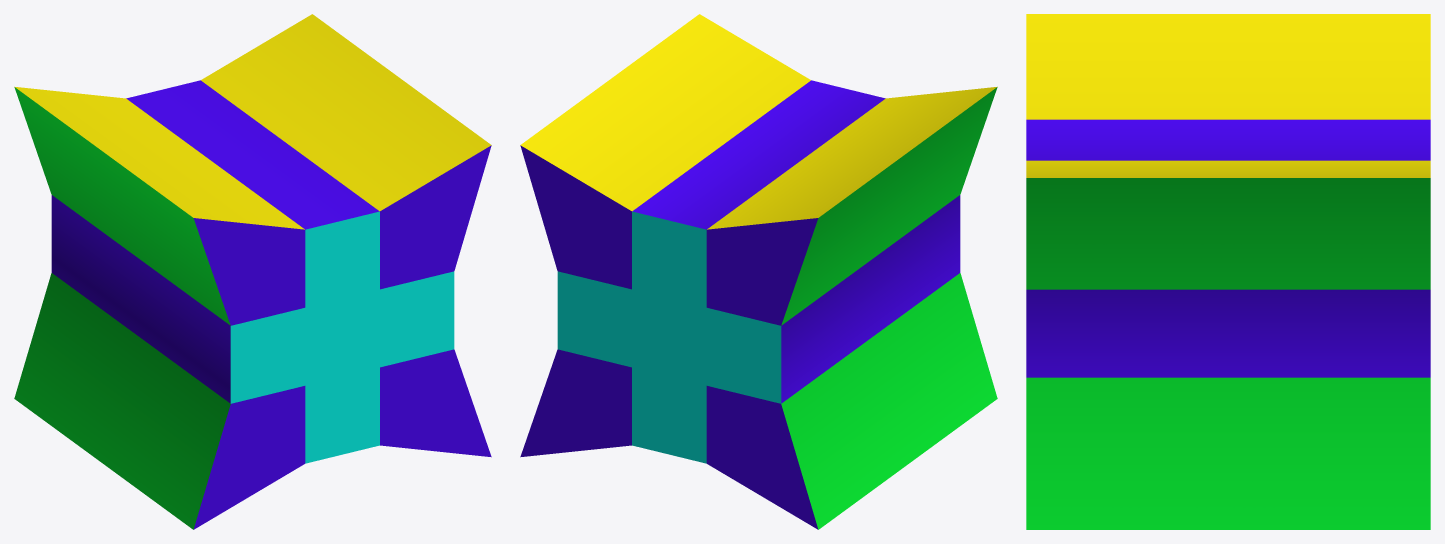
3 renders of one model, left to right at view 1: azimuth 30°, elevation 25°; view 2: azimuth 150°, elevation 25°; view 3: azimuth 270°, elevation 25°, orthographic. The views are drawn at different scales.
Visible parts, largest first — view 1: Объект_Куб; view 2: Объект_Куб; view 3: Объект_Куб.
Boxes of the visible parts, x1,y1,x2,y2 form: Объект_Куб: (14, 14, 491, 529); Объект_Куб: (520, 14, 997, 529); Объект_Куб: (1026, 14, 1430, 529).
Size of the model in its own units: 0.9605 by 0.9605 by 1.
